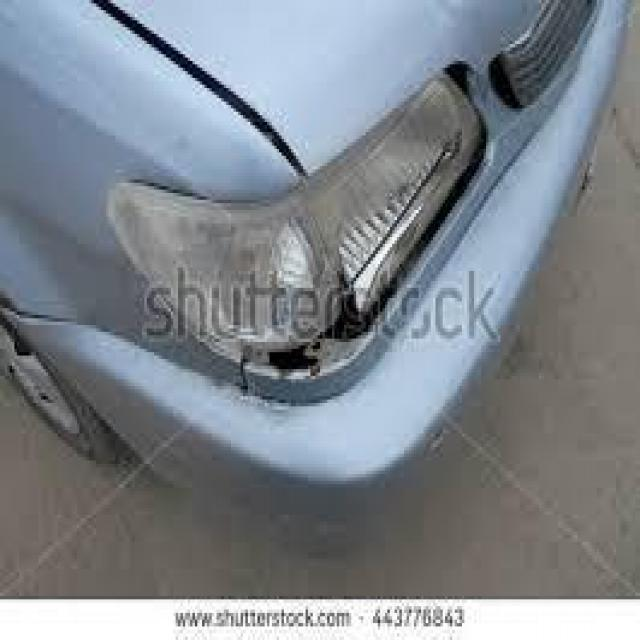damaged: (200, 64, 493, 380)
